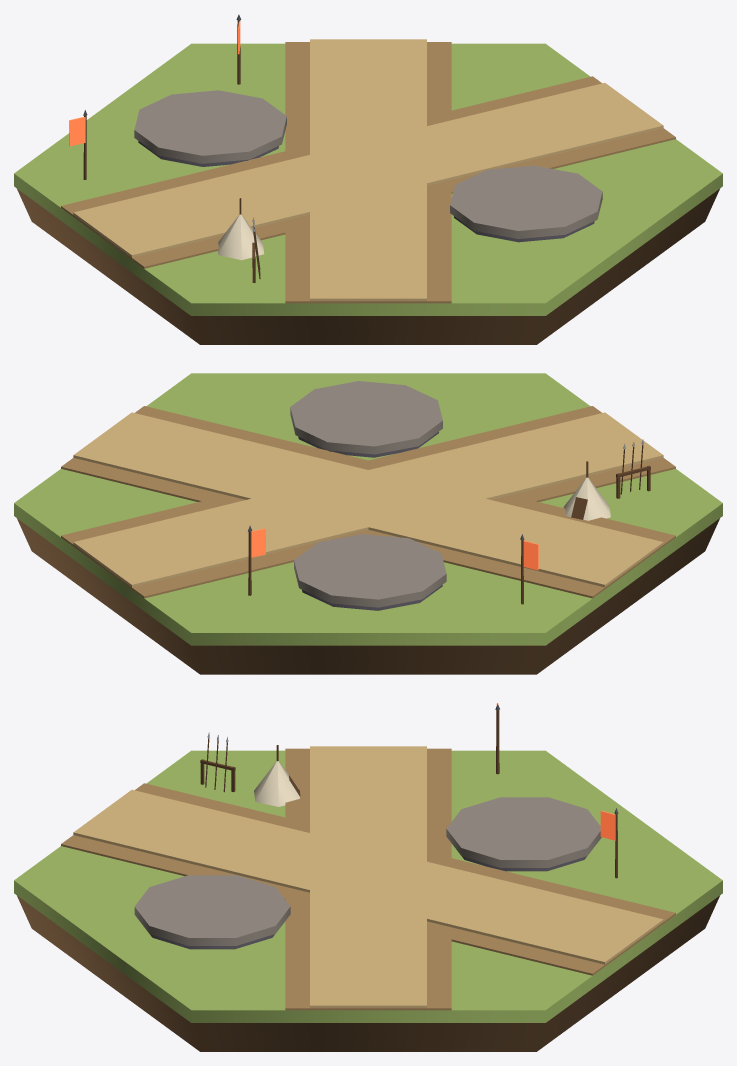
The model's file is tile_warCross.glb.
The picture shows the model from 3 angles, top to bottom: view 1: azimuth 30°, elevation 25°; view 2: azimuth 150°, elevation 25°; view 3: azimuth 270°, elevation 25°; orthographic projection.
Visible parts, largest first — view 1: road, ground, ground_soil, tower_slot_1_plate, tower_slot_2_plate, road_surface_hub, deco_tent_canvas; view 2: road, ground, ground_soil, tower_slot_2_plate, tower_slot_1_plate, road_surface_hub, deco_tent_canvas, tower_slot_1_socket; view 3: road, ground, ground_soil, tower_slot_2_plate, tower_slot_1_plate, road_surface_hub, deco_tent_canvas.
Boxes of the visible parts, x1,y1,x2,y2 form: road: [61, 39, 675, 303]; ground: [14, 43, 722, 315]; ground_soil: [17, 189, 719, 344]; tower_slot_1_plate: [134, 90, 286, 163]; tower_slot_2_plate: [450, 165, 602, 238]; road_surface_hub: [311, 144, 422, 189]; deco_tent_canvas: [218, 214, 264, 260]; road: [61, 406, 675, 598]; ground: [14, 373, 722, 645]; ground_soil: [17, 518, 719, 674]; tower_slot_2_plate: [290, 381, 442, 454]; tower_slot_1_plate: [294, 534, 446, 607]; road_surface_hub: [311, 474, 416, 519]; deco_tent_canvas: [563, 477, 610, 520]; tower_slot_1_socket: [302, 585, 442, 610]; road: [61, 746, 675, 1010]; ground: [14, 750, 722, 1022]; ground_soil: [17, 896, 719, 1051]; tower_slot_2_plate: [134, 875, 290, 945]; tower_slot_1_plate: [446, 797, 601, 867]; road_surface_hub: [310, 875, 426, 900]; deco_tent_canvas: [254, 761, 299, 806].
Bounding box in the file's own units: 1.73 × 0.368 × 2.
